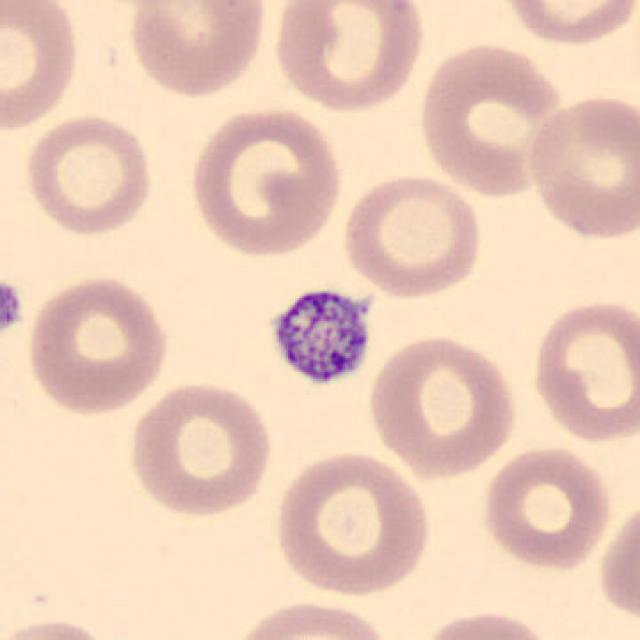Platelets: (263, 282, 377, 391), (0, 279, 27, 340)
RBC: (183, 102, 347, 259), (412, 37, 570, 199), (270, 446, 436, 600), (364, 332, 521, 482), (22, 270, 175, 418), (125, 375, 278, 522), (338, 170, 485, 302), (268, 0, 428, 116), (478, 441, 615, 573), (523, 88, 638, 243), (20, 111, 156, 238), (526, 294, 638, 446), (122, 0, 270, 100), (0, 0, 84, 134), (226, 596, 398, 640), (496, 0, 638, 49), (595, 493, 640, 629), (412, 606, 561, 640), (0, 613, 124, 640)
